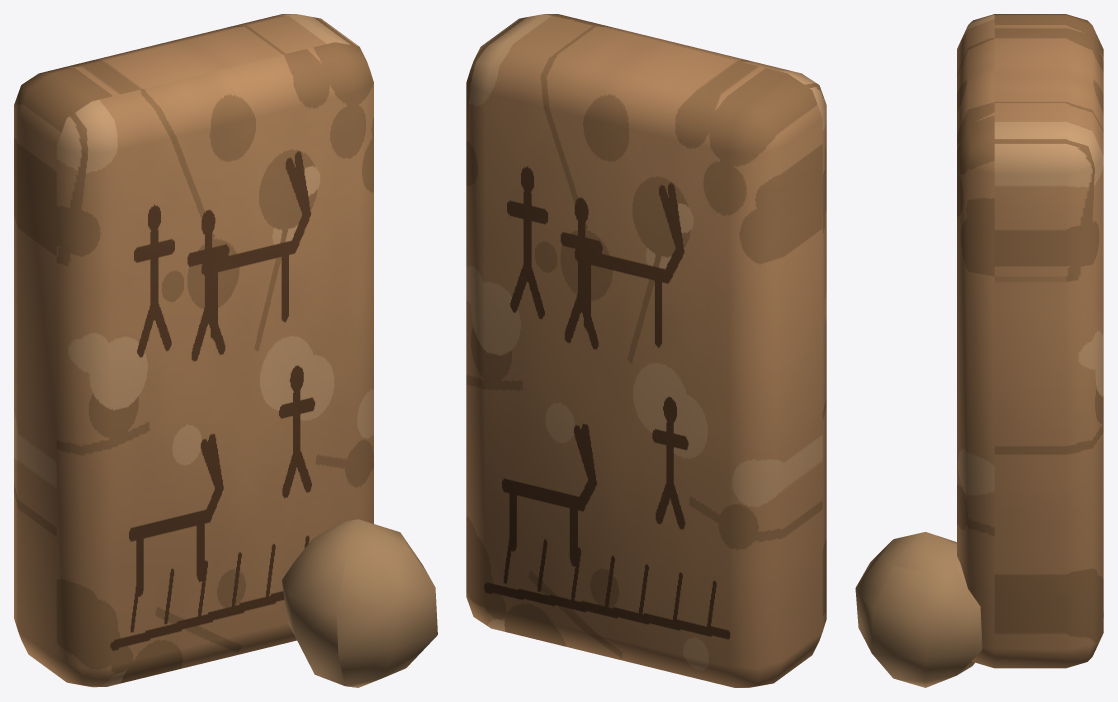
The model's file is prop_petroglyph.glb.
3 views of the same model, side by side, from view 1: azimuth 30°, elevation 25°; view 2: azimuth 150°, elevation 25°; view 3: azimuth 270°, elevation 25° (orthographic). The views are drawn at different scales.
Visible parts, largest first — view 1: prop_petroglyph; view 2: prop_petroglyph; view 3: prop_petroglyph.
Boxes of the visible parts, x1,y1,x2,y2 form: prop_petroglyph: [14, 14, 437, 687]; prop_petroglyph: [466, 14, 826, 687]; prop_petroglyph: [855, 14, 1103, 687].
Size of the model in its own units: 1.7 by 3 by 1.18.
Materials: 1 (1 with a texture image).
